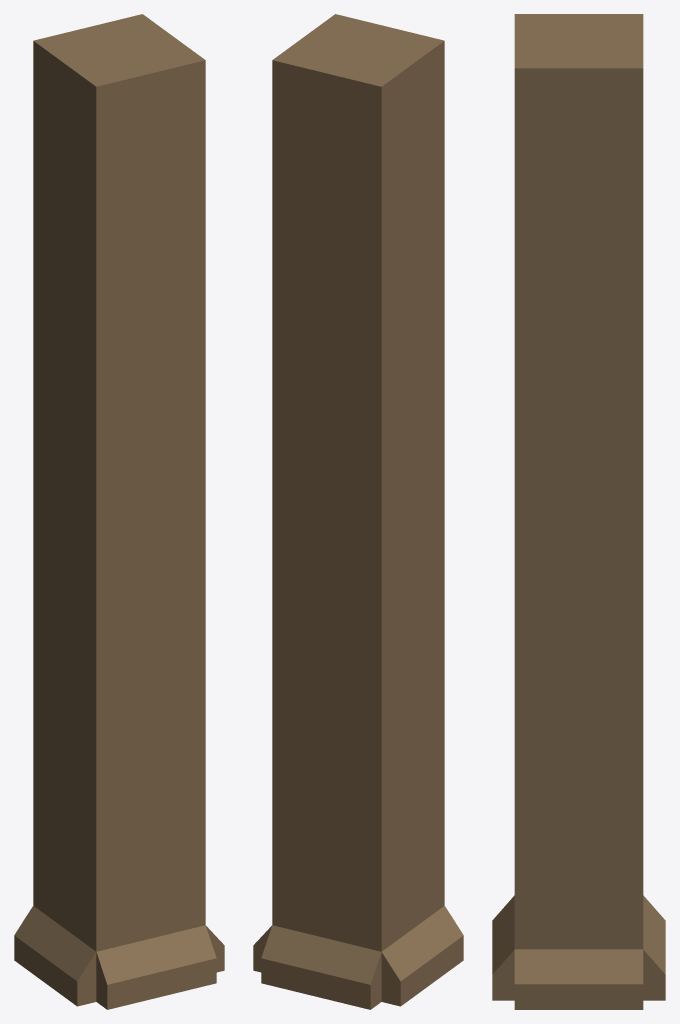
Rendered from Pillar.fbx.
The picture shows the model from 3 angles, left to right: view 1: azimuth 30°, elevation 25°; view 2: azimuth 150°, elevation 25°; view 3: azimuth 270°, elevation 25°; orthographic projection.
Parts seen in each view (by area): view 1: Pillar; view 2: Pillar; view 3: Pillar.
Boxes of the visible parts, x1=… form: Pillar: x1=14, y1=14, x2=224, y2=1009; Pillar: x1=253, y1=14, x2=463, y2=1009; Pillar: x1=492, y1=14, x2=665, y2=1009.
Bounding box in the file's own units: 67.45 × 400 × 67.45.
